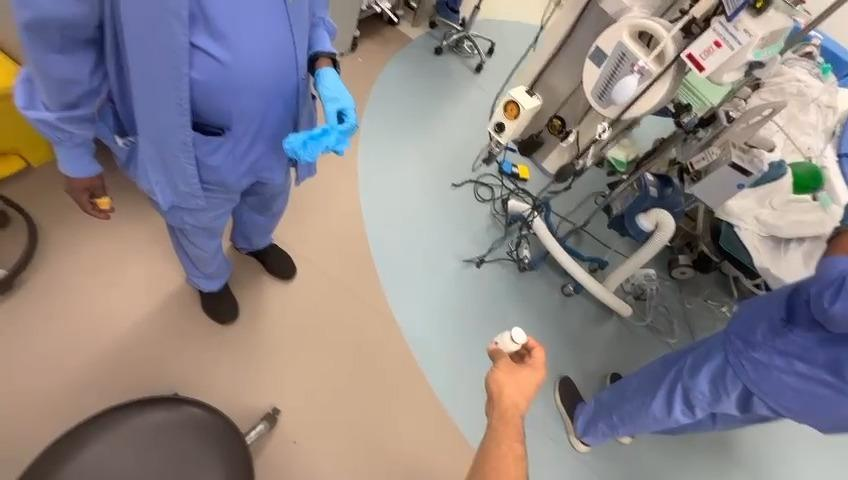augmentin: (494, 326, 527, 354)
